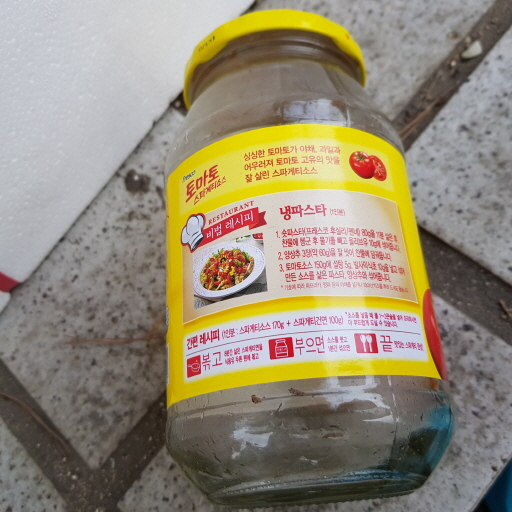Glass_5: (167, 8, 456, 501)
